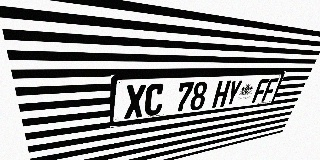7: (174, 82, 194, 113)
8: (189, 81, 209, 111)
C: (144, 83, 165, 117)
F: (252, 79, 270, 103), (261, 78, 279, 102)
H: (212, 80, 231, 108)
X: (124, 84, 146, 119)
Y: (224, 80, 243, 106)
